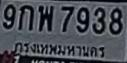3: (92, 6, 105, 33)
7: (60, 5, 74, 31)
8: (109, 7, 121, 34)
9: (2, 3, 15, 28), (76, 6, 88, 32)
A01: (17, 4, 33, 30)
A30: (38, 5, 53, 30)
BKK: (13, 39, 109, 60)
